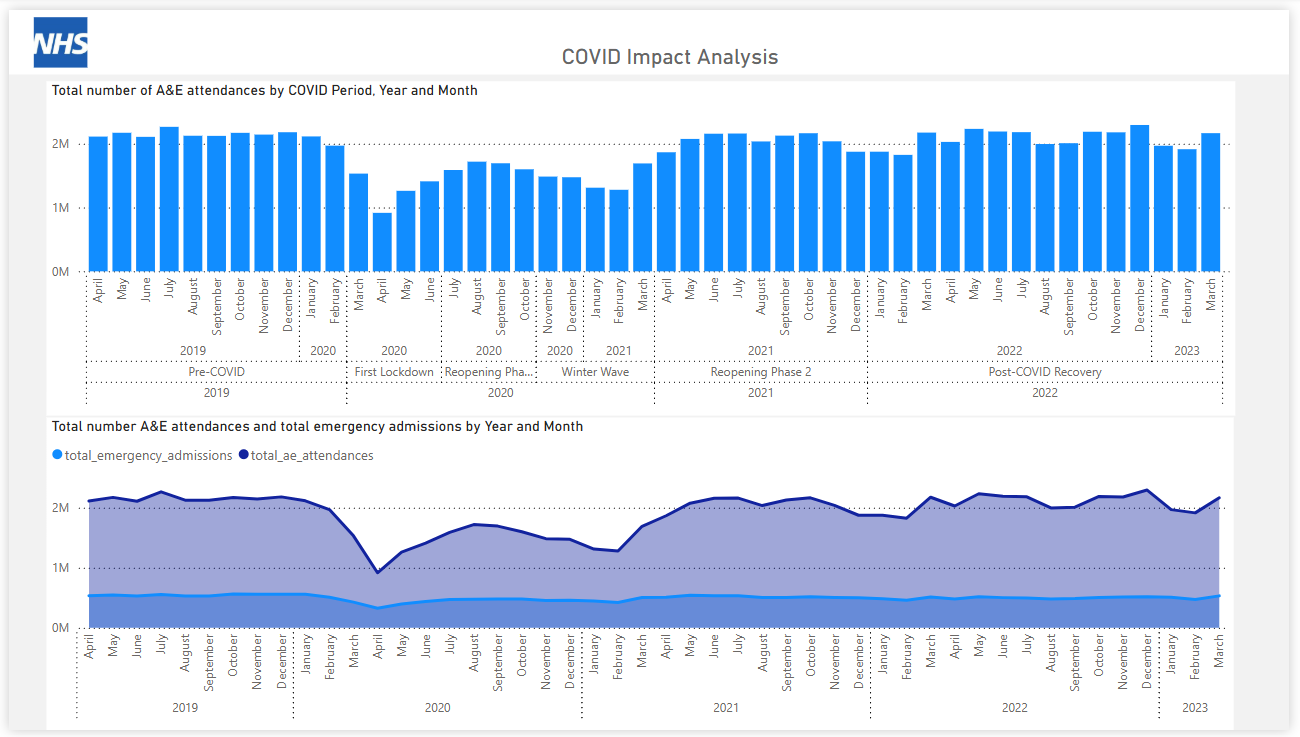

Layout of this report page (visuals, bound fields, positions):
{"tool":"powerbi","page":{"name":"COVID Impact","canvas":[1280,720],"ordinal":1},"visuals":[{"type":"clusteredColumnChart","title":"Total number of  A&E  attendances by COVID Period, Year and Month","fields":{"Y":["_measures.total_ae_attendances"],"Category":["public dim_covid_period.start_date.Variation.Date Hierarchy.Year","public dim_covid_period.period_label","public dim_date.attendance_date.Variation.Date Hierarchy.Year","public dim_date.attendance_date.Variation.Date Hierarchy.Month"]},"box":[37.1,71.4,1188.6,334.3],"z":0},{"type":"image","box":[19.5,0,63.6,64.9],"z":1000},{"type":"areaChart","title":"Total number A&E attendances and total emergency admissions by Year and Month","fields":{"Y":["_measures.total_emergency_admissions","_measures.total_ae_attendances"],"Category":["public dim_date.attendance_date.Variation.Date Hierarchy.Year","public dim_date.attendance_date.Variation.Date Hierarchy.Month"]},"box":[37.5,407.5,1187.5,312.5],"z":2000},{"type":"cardVisual","title":"COVID Impact Analysis","fields":{"Data":["Sum(public fact_aande_data.seen_within_4hrs)"]},"box":[81.2,33.8,1160,30],"z":3000}]}

Visuals, with their boxes in screenshot pixels (x1, y1, x2, y2), scaled from the page's 1280x720 canvas onto the 1300x737 screenshot:
"Total number of  A&E  attendances by COVID Period, Year and Month" clusteredColumnChart: {"left": 38, "top": 73, "right": 1245, "bottom": 415}
image: {"left": 20, "top": 0, "right": 84, "bottom": 66}
"Total number A&E attendances and total emergency admissions by Year and Month" areaChart: {"left": 38, "top": 417, "right": 1244, "bottom": 736}
"COVID Impact Analysis" cardVisual: {"left": 82, "top": 35, "right": 1261, "bottom": 65}
